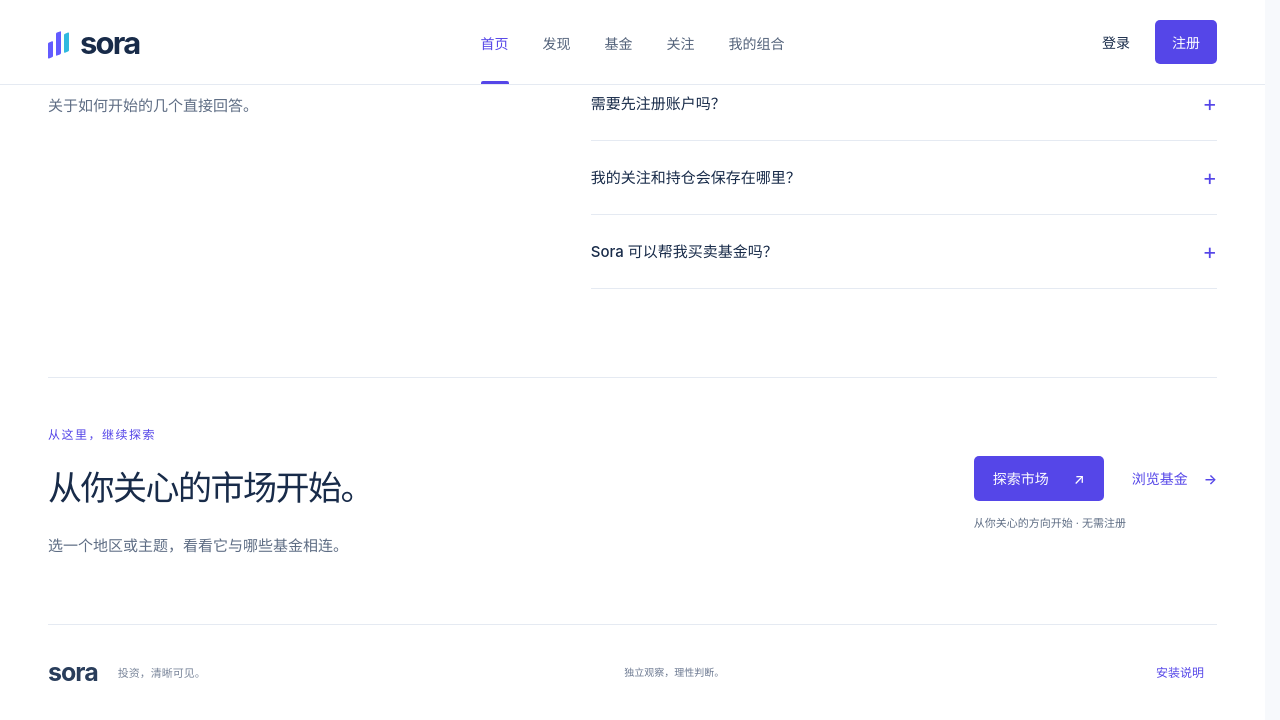
Scenario: Landing Page product introduction › offers product explanations and a working start when sample loading fails
(page scrolled)
Click the link "探索市场 ↗".
click(1039, 478)  # box 974,456 -> 1104,501
(page scrolled)
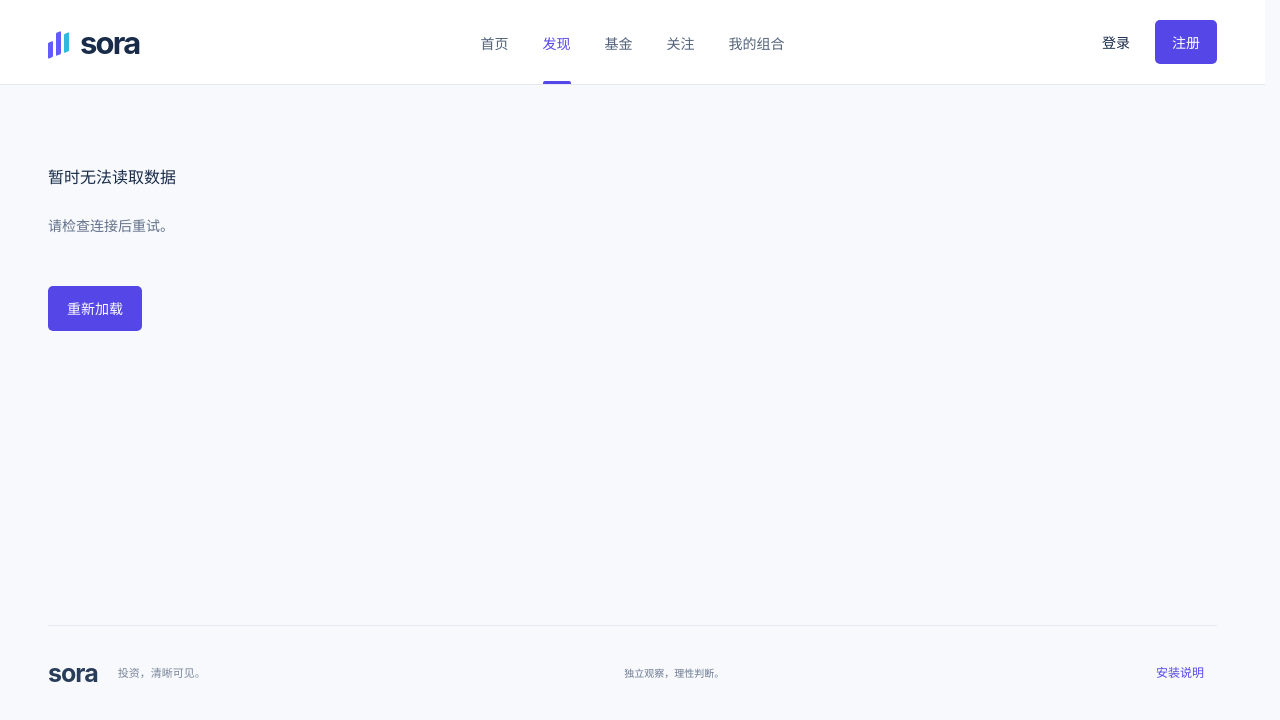
expect the message shows "暂时无法读取数据": met, box 48,167 -> 176,187
